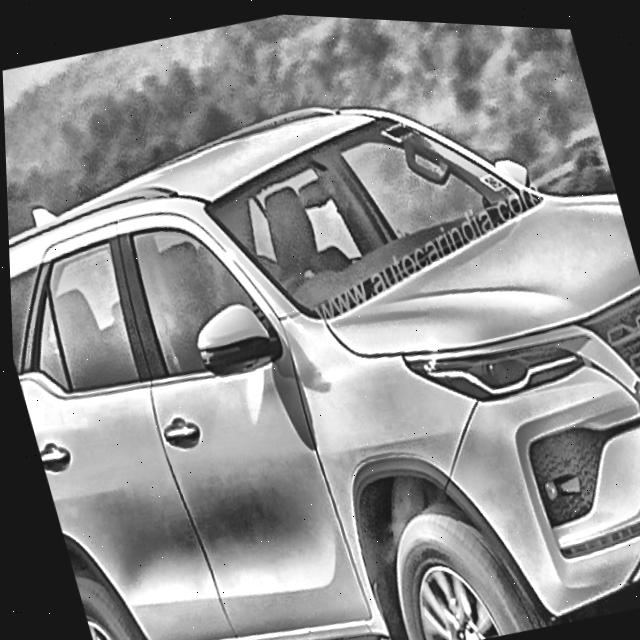light_vehicle: (1, 22, 640, 640)
